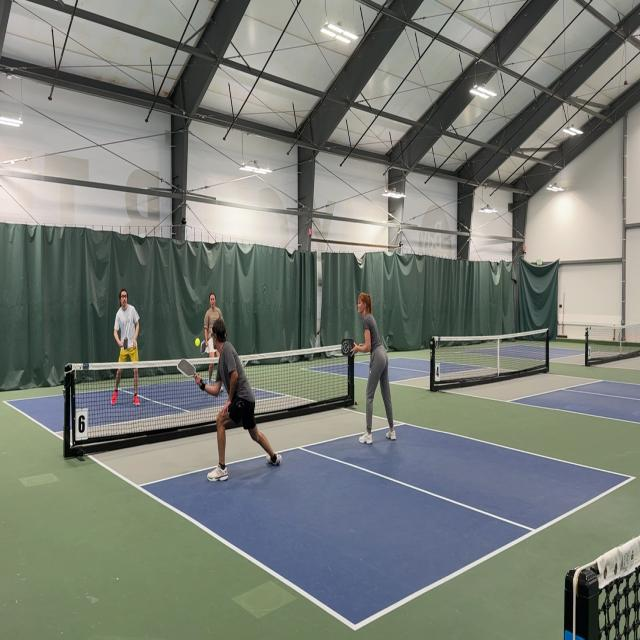ball: (194, 337, 200, 348)
